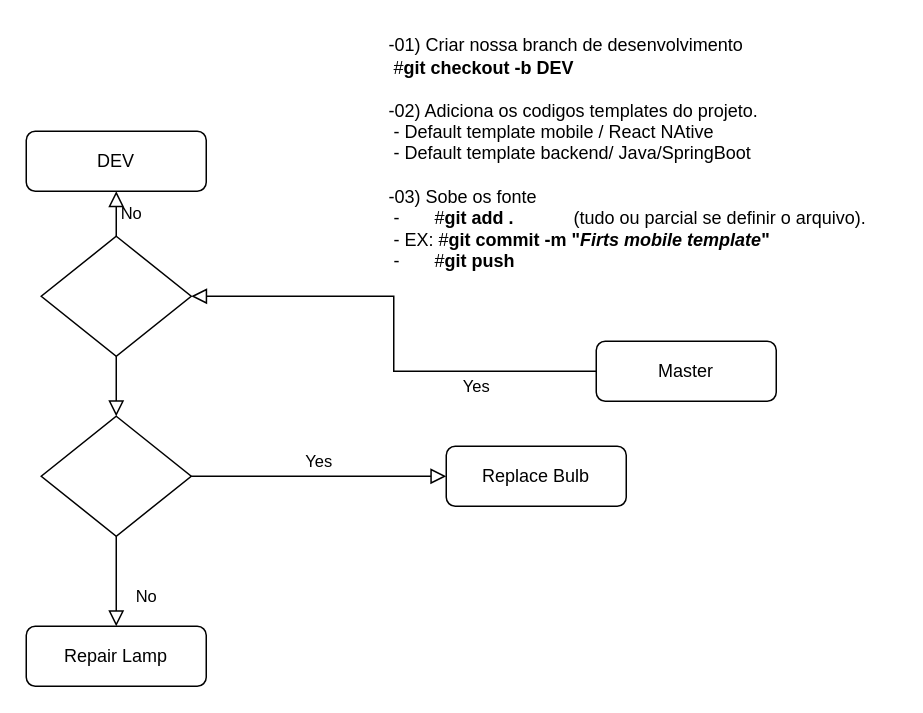
Image size: 923x713. Some labels were removed from this diagram. The centre of each missing label's shape, as x and y in pixels:
"Foi inspecionado ?" goes at point (115, 475).
"O Condigo Compila ?" goes at point (115, 295).
